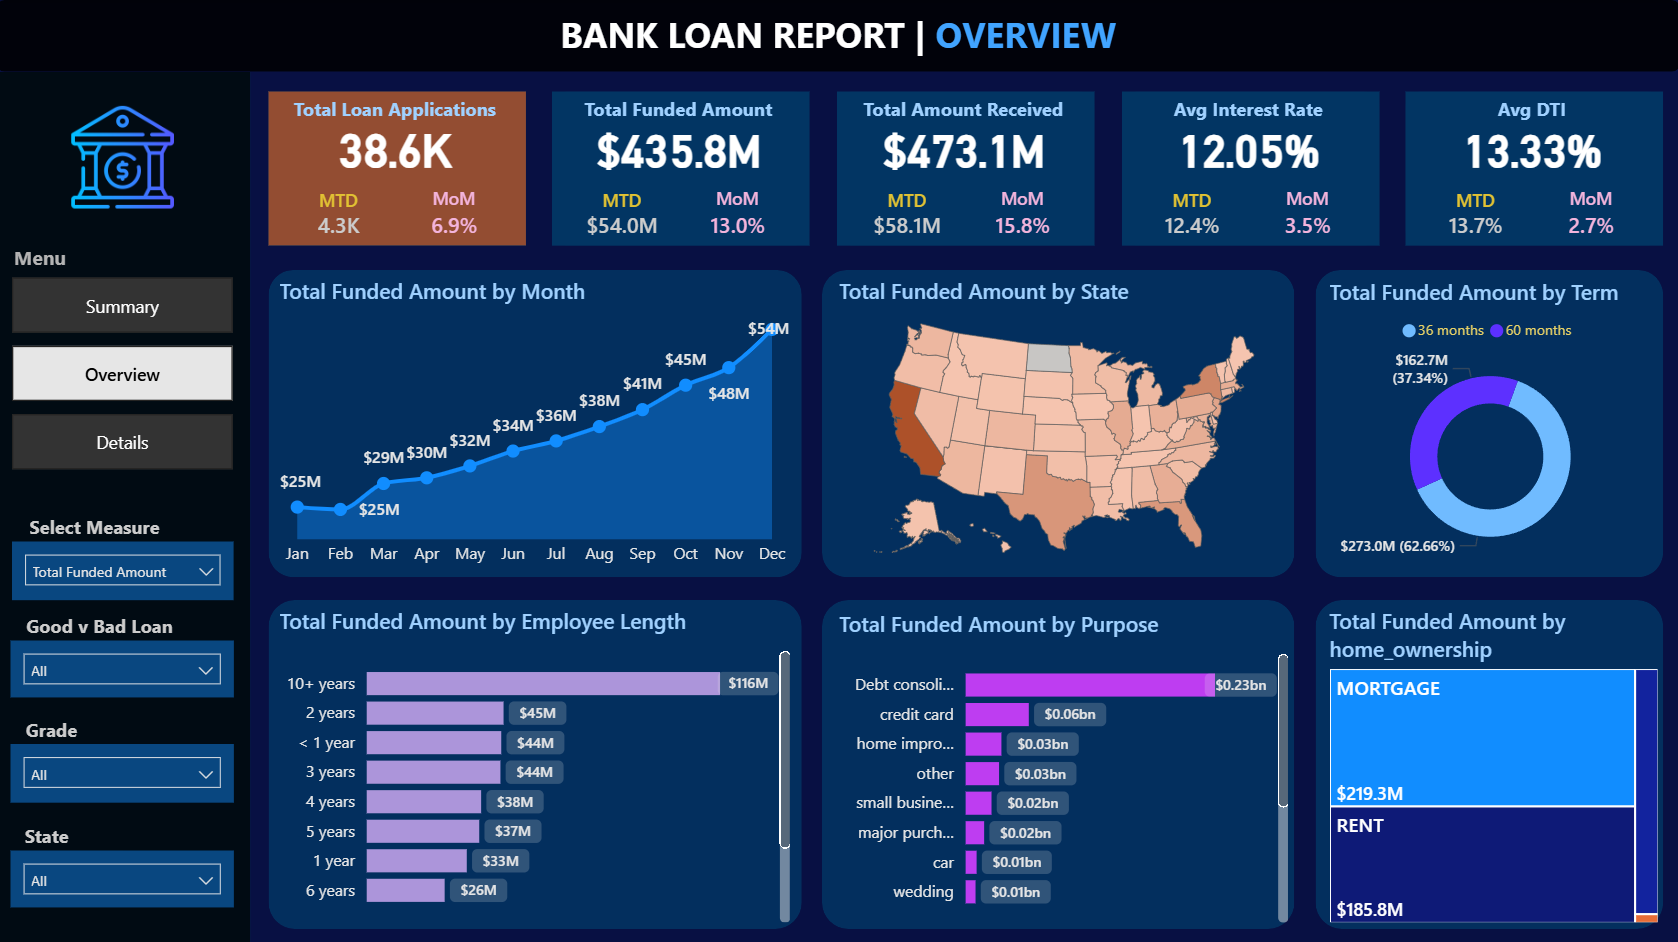

Layout of this report page (visuals, bound fields, positions):
{"tool":"powerbi","page":{"name":"Overview","canvas":[1280,720],"ordinal":1},"visuals":[{"type":"shape","box":[0,0,1280.5,54.6],"z":0},{"type":"group","id":"g1","title":"Group 1","box":[203.1,69.4,199.4,120.6],"z":0,"group":"g6"},{"type":"group","id":"g2","title":"Group 1","box":[419.5,69.4,199.4,120.6],"z":0,"group":"g7"},{"type":"group","id":"g3","title":"Group 1","box":[636,69.4,199.4,120.6],"z":0,"group":"g8"},{"type":"group","id":"g4","title":"Group 1","box":[852.6,69.4,199.4,120.6],"z":0,"group":"g9"},{"type":"group","id":"g5","title":"Group 1","box":[1069.1,69.4,199.4,120.6],"z":0,"group":"g10"},{"type":"textbox","box":[203.6,67.3,199.3,30.8],"z":1000,"group":"g6"},{"type":"textbox","box":[420,67.3,199.3,30.8],"z":1000,"group":"g7"},{"type":"textbox","box":[636.5,67.3,199.3,30.8],"z":1000,"group":"g8"},{"type":"textbox","box":[853.1,67.3,199.3,30.8],"z":1000,"group":"g9"},{"type":"textbox","box":[1069.6,67.3,199.3,30.8],"z":1000,"group":"g10"},{"type":"shape","box":[206.5,205.3,405.9,233.8],"z":1000},{"type":"textbox","box":[8.3,386.4,132.6,29],"z":1000,"group":"g19"},{"type":"textbox","box":[8.1,461.6,140,35.6],"z":1000,"group":"g16"},{"type":"textbox","box":[9.9,539.5,62.5,32.4],"z":1000,"group":"g17"},{"type":"textbox","box":[1.8,620.6,71.2,29.7],"z":1000,"group":"g18"},{"type":"shape","box":[627.8,205.3,359.6,233.8],"z":2000},{"type":"shape","box":[0,54.6,192.9,665.8],"z":3000},{"type":"shape","box":[206.5,69.4,195.9,117.2],"z":3000,"group":"g1"},{"type":"shape","box":[422.9,69.4,195.9,117.2],"z":3000,"group":"g2"},{"type":"shape","box":[639.4,69.4,195.9,117.2],"z":3000,"group":"g3"},{"type":"shape","box":[856,69.4,195.9,117.2],"z":3000,"group":"g4"},{"type":"shape","box":[1072.5,69.4,195.9,117.2],"z":3000,"group":"g5"},{"type":"shape","box":[0,54.6,192.9,665.8],"z":4000},{"type":"textbox","box":[403,2.1,474.5,45.6],"z":5000},{"type":"group","id":"g6","title":"Group 2","box":[203.1,67.3,199.8,122.6],"z":7000,"group":"g11"},{"type":"group","id":"g7","title":"Group 2","box":[419.5,67.3,199.8,122.6],"z":7000,"group":"g12"},{"type":"group","id":"g8","title":"Group 2","box":[636,67.3,199.8,122.6],"z":7000,"group":"g13"},{"type":"group","id":"g9","title":"Group 2","box":[852.6,67.3,199.8,122.6],"z":7000,"group":"g14"},{"type":"group","id":"g10","title":"Group 2","box":[1069.1,67.3,199.8,122.6],"z":7000,"group":"g15"},{"type":"group","id":"g11","title":"Group 3","box":[203.1,67.3,199.8,123.3],"z":8000},{"type":"card","fields":{"Values":["financial_loan.Total Loan Applications"]},"box":[203.1,88.3,199.3,45.5],"z":8000,"group":"g1"},{"type":"card","fields":{"Values":["financial_loan.Total Loan Amount"]},"box":[419.5,88.3,199.3,45.5],"z":8000,"group":"g2"},{"type":"card","fields":{"Values":["financial_loan.Total Amount Collection"]},"box":[636,88.3,199.3,45.5],"z":8000,"group":"g3"},{"type":"card","fields":{"Values":["financial_loan.Avg Interest Rate"]},"box":[852.6,88.3,199.3,45.5],"z":8000,"group":"g4"},{"type":"card","fields":{"Values":["financial_loan.Avg DTI"]},"box":[1069.1,88.3,199.3,45.5],"z":8000,"group":"g5"},{"type":"card","title":"MoM","fields":{"Values":["financial_loan.YOY Loan Applications"]},"box":[303.6,141.9,88.1,48.7],"z":8000,"group":"g11"},{"type":"card","title":"MoM","fields":{"Values":["financial_loan.YOY Loan Amount"]},"box":[520,141.9,88.1,48.7],"z":8000,"group":"g12"},{"type":"card","title":"MoM","fields":{"Values":["financial_loan.YOY Loan Collection"]},"box":[736.5,141.9,88.1,48.7],"z":8000,"group":"g13"},{"type":"card","title":"MoM","fields":{"Values":["financial_loan.YOY Int Rate"]},"box":[953.1,141.9,88.1,48.7],"z":8000,"group":"g14"},{"type":"card","title":"MoM","fields":{"Values":["financial_loan.YOY DTI"]},"box":[1169.6,141.9,88.1,48.7],"z":8000,"group":"g15"},{"type":"group","id":"g12","title":"Group 3","box":[419.5,67.3,199.9,123.3],"z":9000},{"type":"card","title":"MTD","fields":{"Values":["financial_loan.MTD Applications"]},"box":[209.8,142,99.3,48],"z":9000,"group":"g1"},{"type":"card","title":"MTD","fields":{"Values":["financial_loan.MTD Loan Amount"]},"box":[426.2,142,99.3,48],"z":9000,"group":"g2"},{"type":"card","title":"MTD","fields":{"Values":["financial_loan.MTD Loan Collection"]},"box":[642.7,142,99.3,48],"z":9000,"group":"g3"},{"type":"card","title":"MTD","fields":{"Values":["financial_loan.MTD Avg Int Rate"]},"box":[859.3,142,99.3,48],"z":9000,"group":"g4"},{"type":"card","title":"MTD","fields":{"Values":["financial_loan.MTD Avg DTI"]},"box":[1075.8,142,99.3,48],"z":9000,"group":"g5"},{"type":"group","id":"g13","title":"Group 3","box":[636,67.3,199.9,123.3],"z":10000},{"type":"group","id":"g14","title":"Group 3","box":[852.6,67.3,199.9,123.3],"z":11000},{"type":"group","id":"g15","title":"Group 3","box":[1069.1,67.3,199.9,123.3],"z":12000},{"type":"shape","box":[206.5,456.9,405.9,250.4],"z":13000},{"type":"image","box":[26.8,69.2,138.4,99.3],"z":14000},{"type":"areaChart","fields":{"Y":["financial_loan.Total Funded Amount"],"Category":["Date Table.Month"]},"box":[210.1,210.1,397.6,229],"z":15000},{"type":"shape","box":[1004,205.3,264.6,233.8],"z":16000},{"type":"slicer","fields":{"Values":["Select Measure.Select Measure"]},"box":[11.4,412.3,168.9,44.5],"z":17000},{"type":"shape","box":[627.8,456.9,359.6,250.4],"z":18000},{"type":"shape","box":[1004,456.9,264.6,250.4],"z":19000},{"type":"slicer","fields":{"Values":["financial_loan.Good v Bad Loan"]},"box":[10.1,487,169.7,43],"z":20000},{"type":"slicer","fields":{"Values":["financial_loan.grade"]},"box":[10.4,566.7,169.9,44.5],"z":21000},{"type":"slicer","fields":{"Values":["financial_loan.address_state"]},"box":[10,647.3,169.9,43.5],"z":22000},{"type":"group","id":"g16","title":"Group 2","box":[8.1,461.6,140,35.6],"z":23000},{"type":"group","id":"g17","title":"Group 2","box":[9.9,539.5,62.5,32.4],"z":24000},{"type":"group","id":"g18","title":"Group 2","box":[1.8,620.6,71.2,29.7],"z":25000},{"type":"pageNavigator","box":[11.4,211.4,168.6,147.3],"z":26000},{"type":"group","id":"g19","title":"Group 2","box":[8.3,386.4,132.6,29],"z":27000},{"type":"textbox","box":[8.3,180.3,157.5,34.2],"z":28000},{"type":"shapeMap","fields":{"Value":["financial_loan.Total Funded Amount"],"Category":["financial_loan.State"]},"box":[636.2,209.7,351.9,224.9],"z":29000},{"type":"donutChart","fields":{"Y":["financial_loan.Total Funded Amount"],"Category":["financial_loan.term"]},"box":[1009,210.9,254,223.7],"z":30000},{"type":"barChart","fields":{"Y":["financial_loan.Total Funded Amount"],"Category":["financial_loan.emp_length"]},"box":[209.7,461.4,398.5,245.8],"z":31000},{"type":"barChart","fields":{"Y":["financial_loan.Total Funded Amount"],"Category":["financial_loan.purpose"]},"box":[636.2,463.7,351.9,243.5],"z":32000},{"type":"treemap","fields":{"Values":["financial_loan.Total Funded Amount"],"Group":["financial_loan.home_ownership"]},"box":[1009,461.4,259.8,245.8],"z":33000}]}

Visuals, with their boxes in screenshot pixels (x1, y1, x2, y2), scaled from the page's 1280x720 canvas onto the 1678x942 screenshot:
shape: bbox(0, 0, 1677, 71)
"Group 1" group: bbox(266, 91, 528, 249)
"Group 1" group: bbox(550, 91, 811, 249)
"Group 1" group: bbox(834, 91, 1095, 249)
"Group 1" group: bbox(1118, 91, 1379, 249)
"Group 1" group: bbox(1402, 91, 1663, 249)
textbox: bbox(267, 88, 528, 128)
textbox: bbox(551, 88, 812, 128)
textbox: bbox(834, 88, 1096, 128)
textbox: bbox(1118, 88, 1380, 128)
textbox: bbox(1402, 88, 1663, 128)
shape: bbox(271, 269, 803, 574)
textbox: bbox(11, 506, 185, 543)
textbox: bbox(11, 604, 194, 651)
textbox: bbox(13, 706, 95, 748)
textbox: bbox(2, 812, 96, 851)
shape: bbox(823, 269, 1294, 574)
shape: bbox(0, 71, 253, 941)
shape: bbox(271, 91, 528, 244)
shape: bbox(554, 91, 811, 244)
shape: bbox(838, 91, 1095, 244)
shape: bbox(1122, 91, 1379, 244)
shape: bbox(1406, 91, 1663, 244)
shape: bbox(0, 71, 253, 941)
textbox: bbox(528, 3, 1150, 62)
"Group 2" group: bbox(266, 88, 528, 248)
"Group 2" group: bbox(550, 88, 812, 248)
"Group 2" group: bbox(834, 88, 1096, 248)
"Group 2" group: bbox(1118, 88, 1380, 248)
"Group 2" group: bbox(1402, 88, 1663, 248)
"Group 3" group: bbox(266, 88, 528, 249)
card - financial_loan.Total Loan Applications: bbox(266, 116, 528, 175)
card - financial_loan.Total Loan Amount: bbox(550, 116, 811, 175)
card - financial_loan.Total Amount Collection: bbox(834, 116, 1095, 175)
card - financial_loan.Avg Interest Rate: bbox(1118, 116, 1379, 175)
card - financial_loan.Avg DTI: bbox(1402, 116, 1663, 175)
"MoM" card: bbox(398, 186, 513, 249)
"MoM" card: bbox(682, 186, 797, 249)
"MoM" card: bbox(966, 186, 1081, 249)
"MoM" card: bbox(1249, 186, 1365, 249)
"MoM" card: bbox(1533, 186, 1649, 249)
"Group 3" group: bbox(550, 88, 812, 249)
"MTD" card: bbox(275, 186, 405, 249)
"MTD" card: bbox(559, 186, 689, 249)
"MTD" card: bbox(843, 186, 973, 249)
"MTD" card: bbox(1126, 186, 1257, 249)
"MTD" card: bbox(1410, 186, 1540, 249)
"Group 3" group: bbox(834, 88, 1096, 249)
"Group 3" group: bbox(1118, 88, 1380, 249)
"Group 3" group: bbox(1402, 88, 1664, 249)
shape: bbox(271, 598, 803, 925)
image: bbox(35, 91, 217, 220)
areaChart - financial_loan.Total Funded Amount x Date Table.Month: bbox(275, 275, 797, 574)
shape: bbox(1316, 269, 1663, 574)
slicer - Select Measure.Select Measure: bbox(15, 539, 236, 598)
shape: bbox(823, 598, 1294, 925)
shape: bbox(1316, 598, 1663, 925)
slicer - financial_loan.Good v Bad Loan: bbox(13, 637, 236, 693)
slicer - financial_loan.grade: bbox(14, 741, 236, 800)
slicer - financial_loan.address_state: bbox(13, 847, 236, 904)
"Group 2" group: bbox(11, 604, 194, 651)
"Group 2" group: bbox(13, 706, 95, 748)
"Group 2" group: bbox(2, 812, 96, 851)
pageNavigator: bbox(15, 277, 236, 469)
"Group 2" group: bbox(11, 506, 185, 543)
textbox: bbox(11, 236, 217, 281)
shapeMap - financial_loan.Total Funded Amount x financial_loan.State: bbox(834, 274, 1295, 569)
donutChart - financial_loan.Total Funded Amount x financial_loan.term: bbox(1323, 276, 1656, 569)
barChart - financial_loan.Total Funded Amount x financial_loan.emp_length: bbox(275, 604, 797, 925)
barChart - financial_loan.Total Funded Amount x financial_loan.purpose: bbox(834, 607, 1295, 925)
treemap - financial_loan.Total Funded Amount x financial_loan.home_ownership: bbox(1323, 604, 1663, 925)
